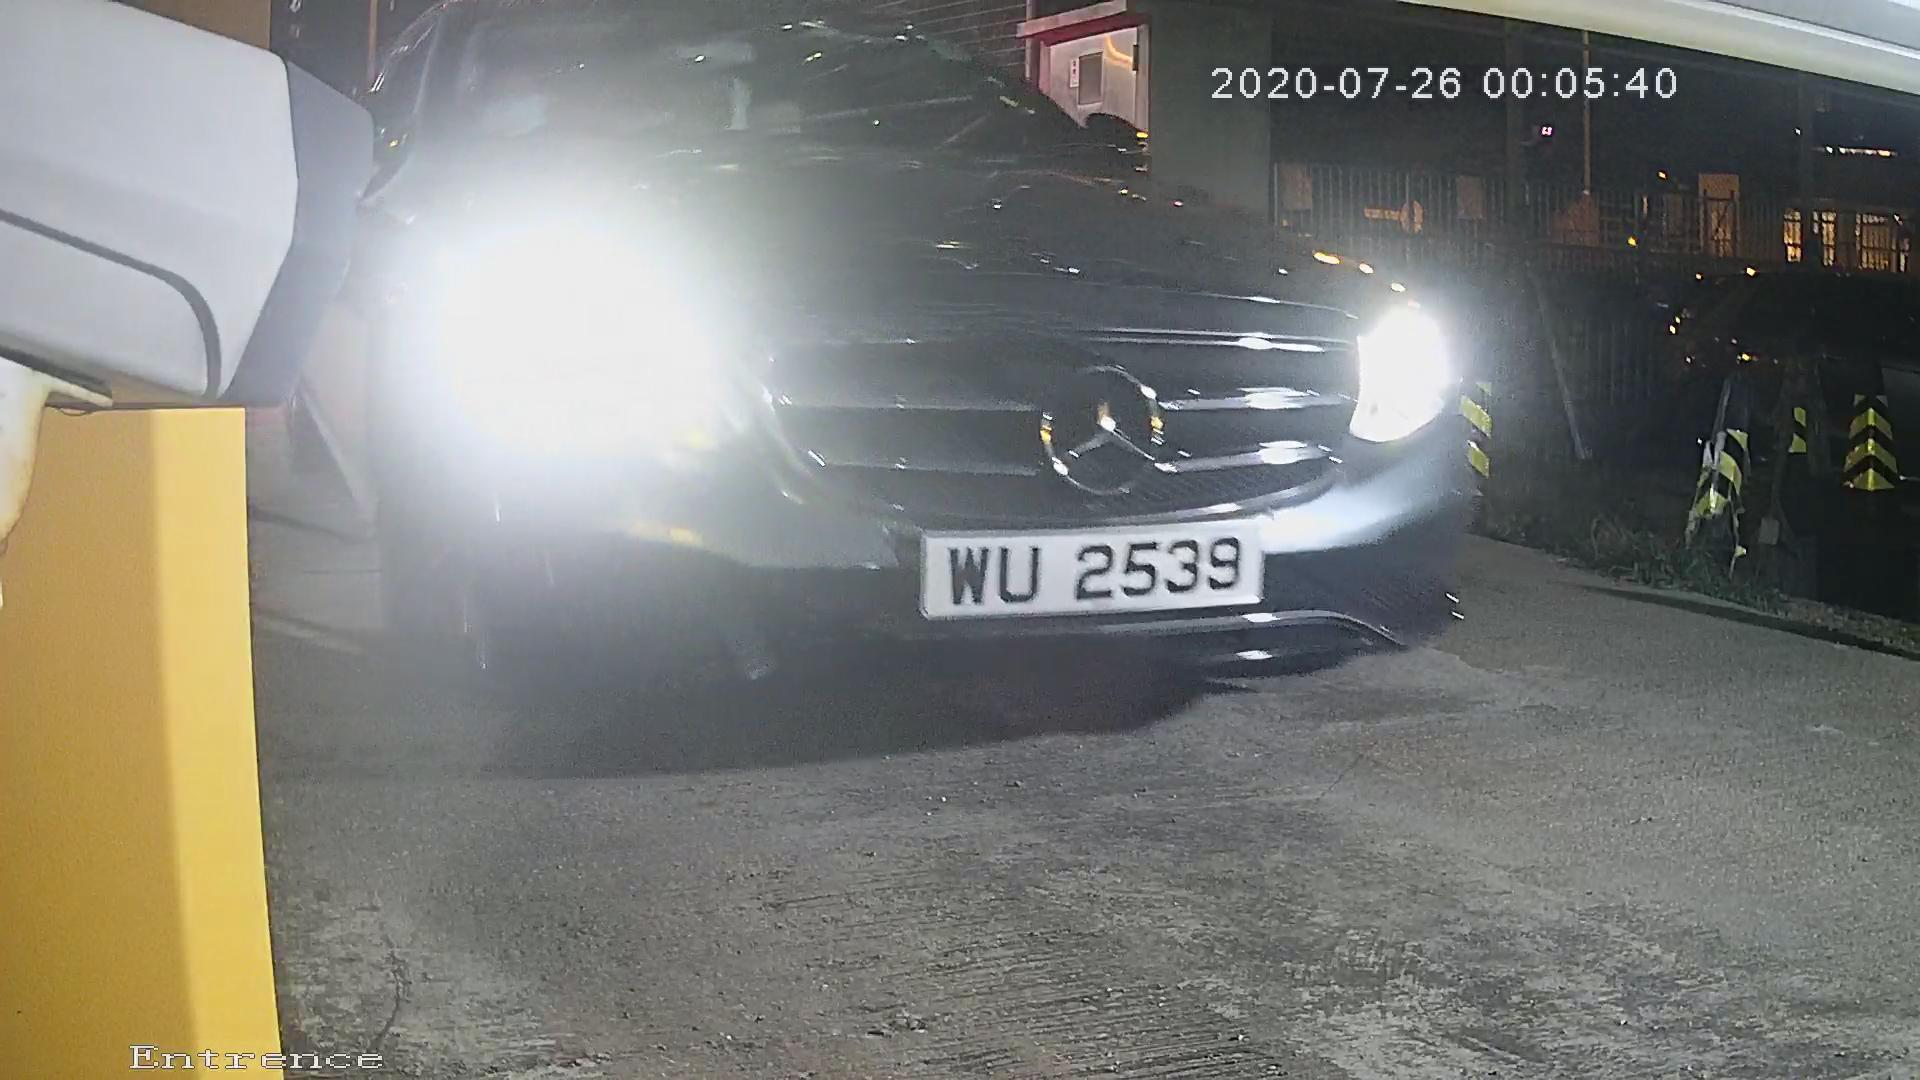privatecar: (301, 1, 1758, 748)
